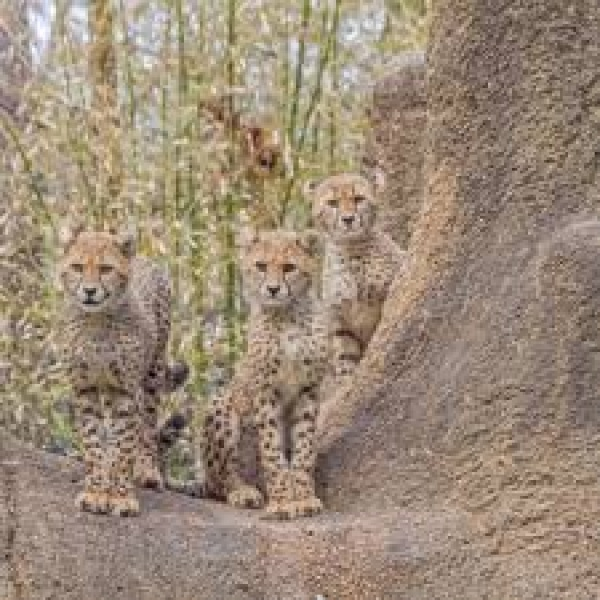Cheetah: (198, 224, 340, 524), (57, 227, 191, 521), (301, 167, 417, 387)
